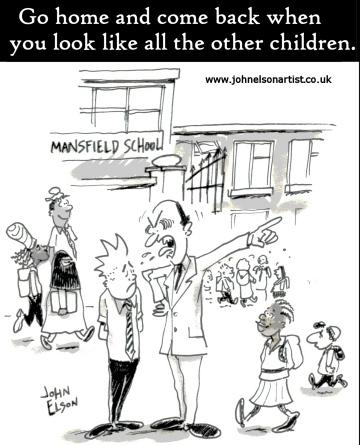person: (140, 199, 282, 444), (95, 232, 145, 438), (232, 298, 304, 437), (38, 190, 96, 350), (2, 224, 51, 331), (306, 324, 351, 392), (237, 255, 260, 307), (250, 254, 274, 300), (217, 260, 238, 305), (272, 263, 291, 301)
